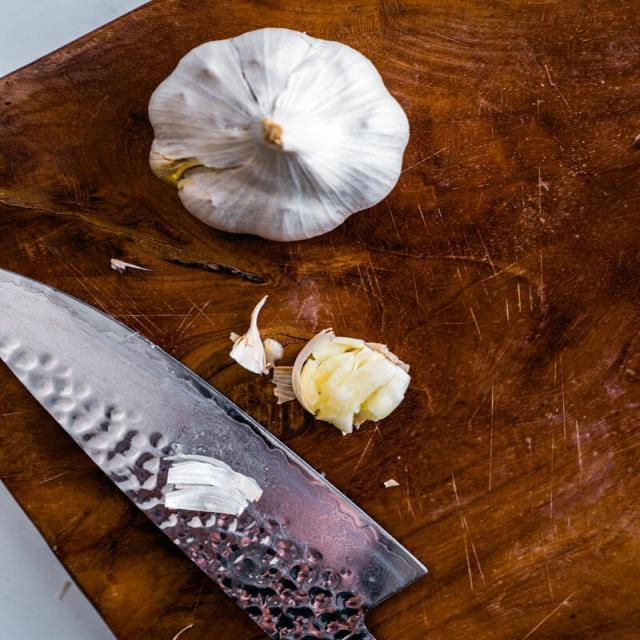garlic: (143, 23, 413, 247)
